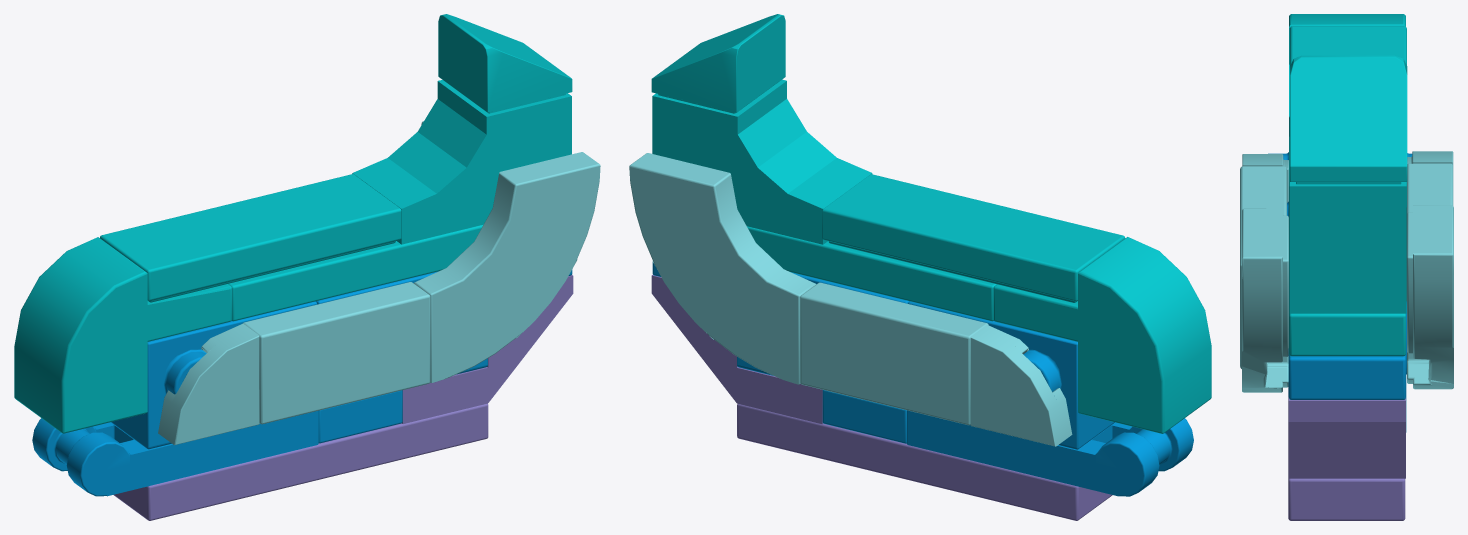
File: Passo 56.fbx
3 views of the same model, side by side, from view 1: azimuth 30°, elevation 25°; view 2: azimuth 150°, elevation 25°; view 3: azimuth 270°, elevation 25° (orthographic). The views are drawn at different scales.
Visible parts, largest first — view 1: Brick_cuved_1x2x1.018, Tile_2x2__1_.005, Tile_1x3.004, Tile_1x2__1_.001, Brick_curved_1x2.019, Plate_1x4_1.006, Plate_special_2x1.008, Plate_1x4.039, Tile_round_1x1_2__1_.007, Slope_1x1.026, Slope_2x1.007, Brick_special_2x2.006 (+1 smaller); view 2: Brick_cuved_1x2x1.018, Tile_2x2.009, Tile_1x3.004, Tile_1x2.003, Brick_curved_1x2.019, Plate_1x4_1.006, Plate_special_2x1.008, Plate_1x4.039, Tile_round_1x1_2.009, Slope_1x1.026, Slope_2x1.007, Brick_special_2x2.006 (+1 smaller); view 3: Brick_curved_1x2.019, Slope_1x1.026, Slope_2x1.007, Tile_2x2.009, Tile_2x2__1_.005, Plate_1x4.039, Plate_1x1.007, Plate_1x4_1.006, Tile_1x3.004, Tile_1x2__1_.001, Tile_1x2.003, Brick_cuved_1x2x1.018 (+2 smaller).
Boxes of the visible parts, box(x1,y1,x2,y2) form: Brick_cuved_1x2x1.018: box(14, 237, 231, 433); Tile_2x2__1_.005: box(413, 152, 600, 382); Tile_1x3.004: box(100, 174, 401, 302); Tile_1x2__1_.001: box(243, 282, 430, 424); Brick_curved_1x2.019: box(352, 80, 571, 244); Plate_1x4_1.006: box(113, 403, 488, 520); Plate_special_2x1.008: box(32, 410, 318, 496); Plate_1x4.039: box(228, 224, 483, 321); Tile_round_1x1_2__1_.007: box(158, 323, 259, 445); Slope_1x1.026: box(438, 14, 572, 113); Slope_2x1.007: box(402, 275, 573, 423); Brick_special_2x2.006: box(111, 301, 317, 449); Brick_cuved_1x2x1.018: box(993, 237, 1211, 433); Tile_2x2.009: box(629, 153, 816, 384); Tile_1x3.004: box(822, 174, 1125, 302); Tile_1x2.003: box(800, 282, 988, 425); Brick_curved_1x2.019: box(652, 79, 872, 244); Plate_1x4_1.006: box(737, 404, 1112, 520); Plate_special_2x1.008: box(907, 410, 1193, 496); Plate_1x4.039: box(747, 226, 996, 321); Tile_round_1x1_2.009: box(970, 325, 1072, 446); Slope_1x1.026: box(651, 14, 785, 113); Slope_2x1.007: box(651, 274, 822, 424); Brick_special_2x2.006: box(908, 301, 1114, 449); Brick_curved_1x2.019: box(1289, 137, 1406, 313); Slope_1x1.026: box(1290, 55, 1407, 184); Slope_2x1.007: box(1288, 397, 1405, 478); Tile_2x2.009: box(1407, 205, 1453, 389); Tile_2x2__1_.005: box(1242, 208, 1288, 392); Plate_1x4.039: box(1289, 119, 1405, 356); Plate_1x1.007: box(1288, 348, 1405, 399); Plate_1x4_1.006: box(1288, 387, 1405, 520); Tile_1x3.004: box(1290, 26, 1406, 207); Tile_1x2__1_.001: box(1240, 166, 1286, 368); Tile_1x2.003: box(1406, 163, 1453, 300); Brick_cuved_1x2x1.018: box(1289, 14, 1405, 119).
Bounding box in the file's own units: 0.4871 × 0.351 × 0.1459.
